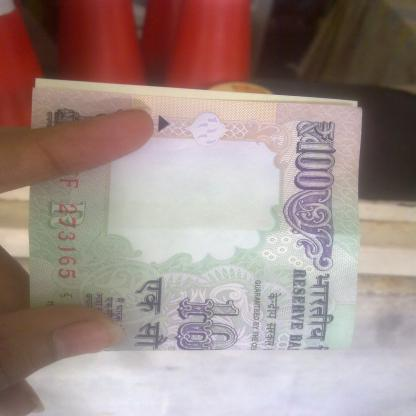Old100Front: (25, 76, 364, 352)
